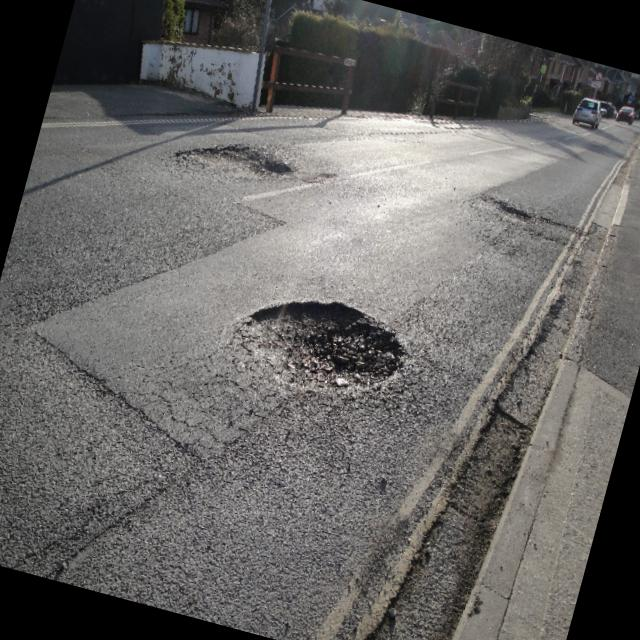Potholes: (220, 269, 423, 422), (170, 119, 320, 207), (464, 177, 590, 269)
